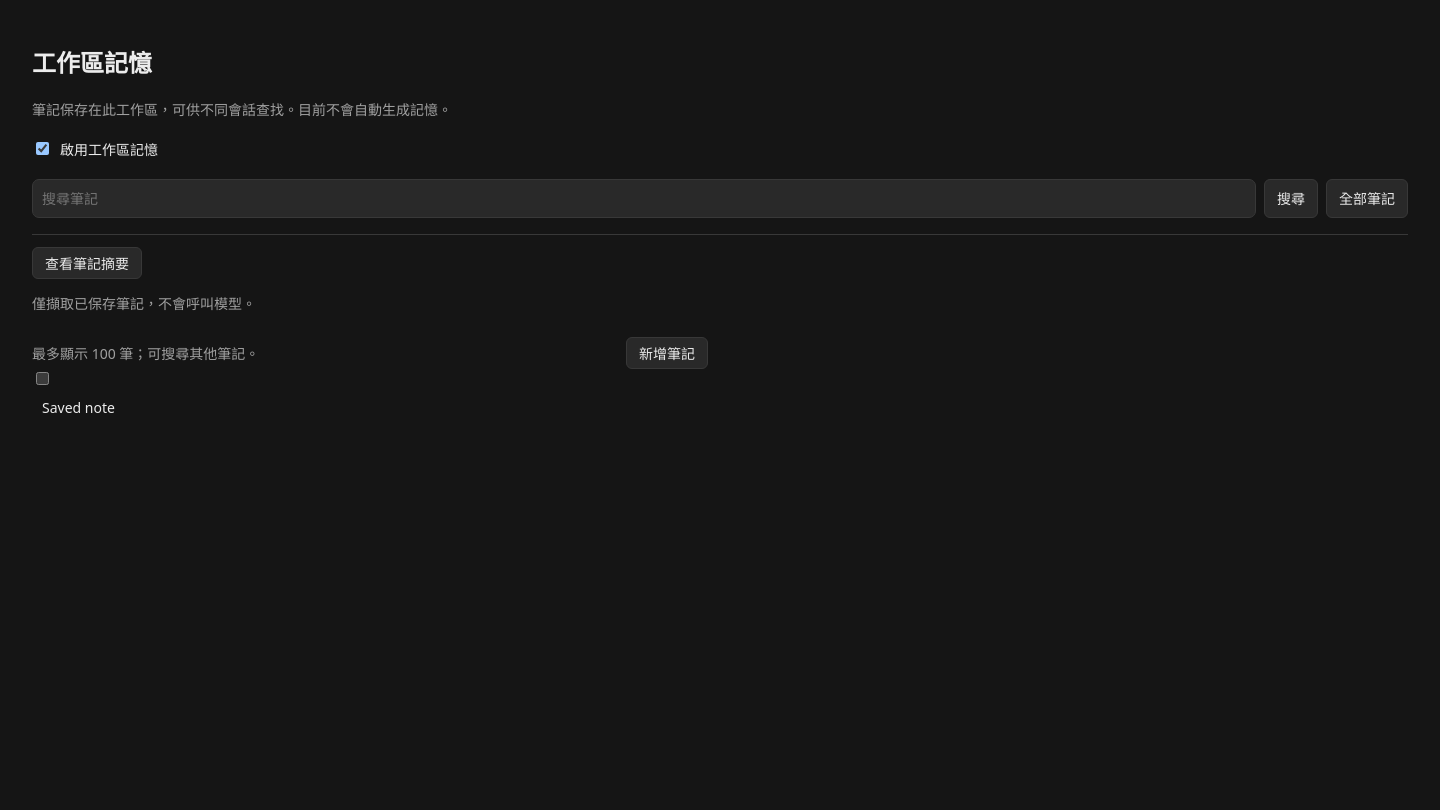
workspace memory › preserves a changed note when single deletion no longer matches its read revision
Click the button "Saved note". click: [78, 407]
box: x1=32 y1=389 x2=708 y2=426
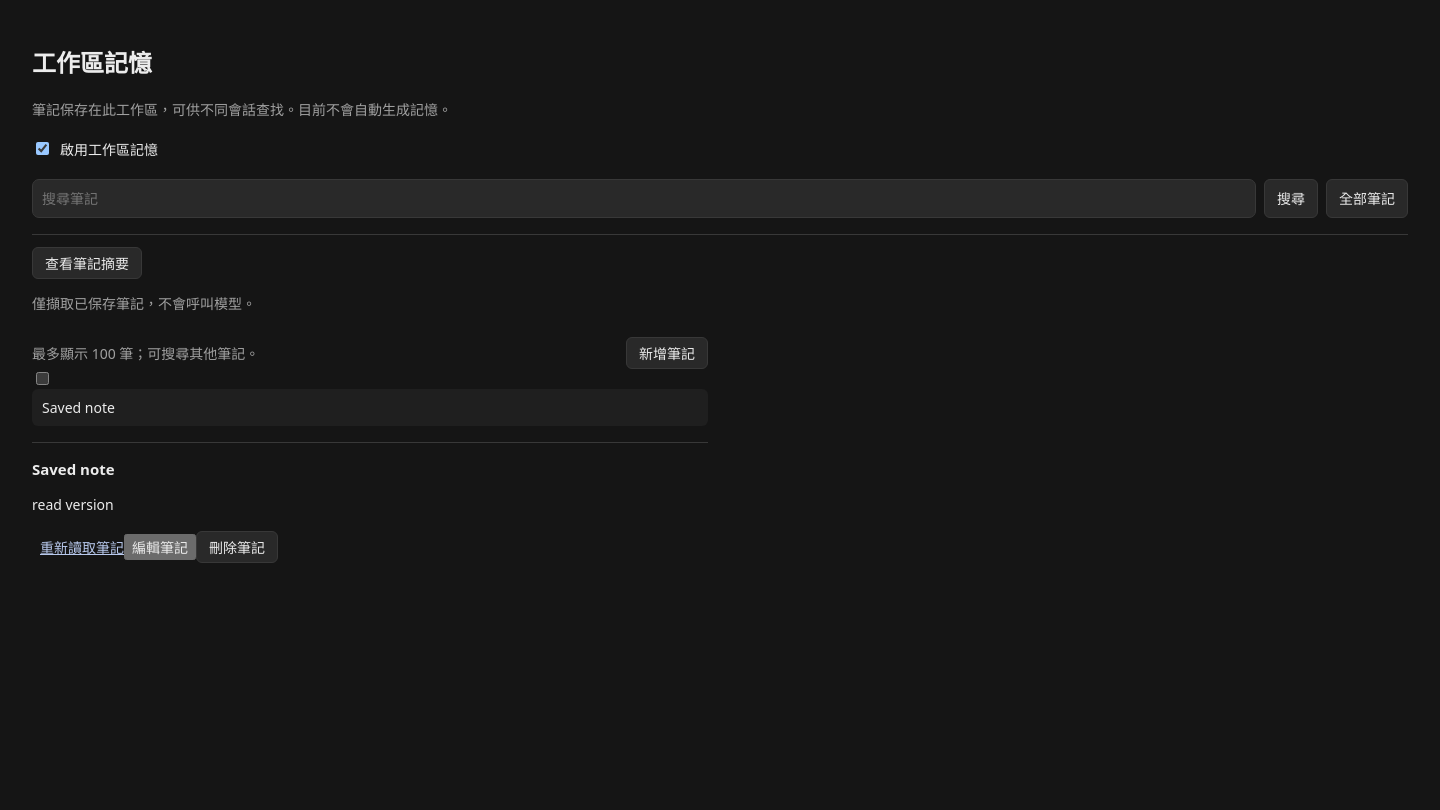
Click the button "刪除筆記". click: [237, 547]
box: x1=196 y1=531 x2=278 y2=563
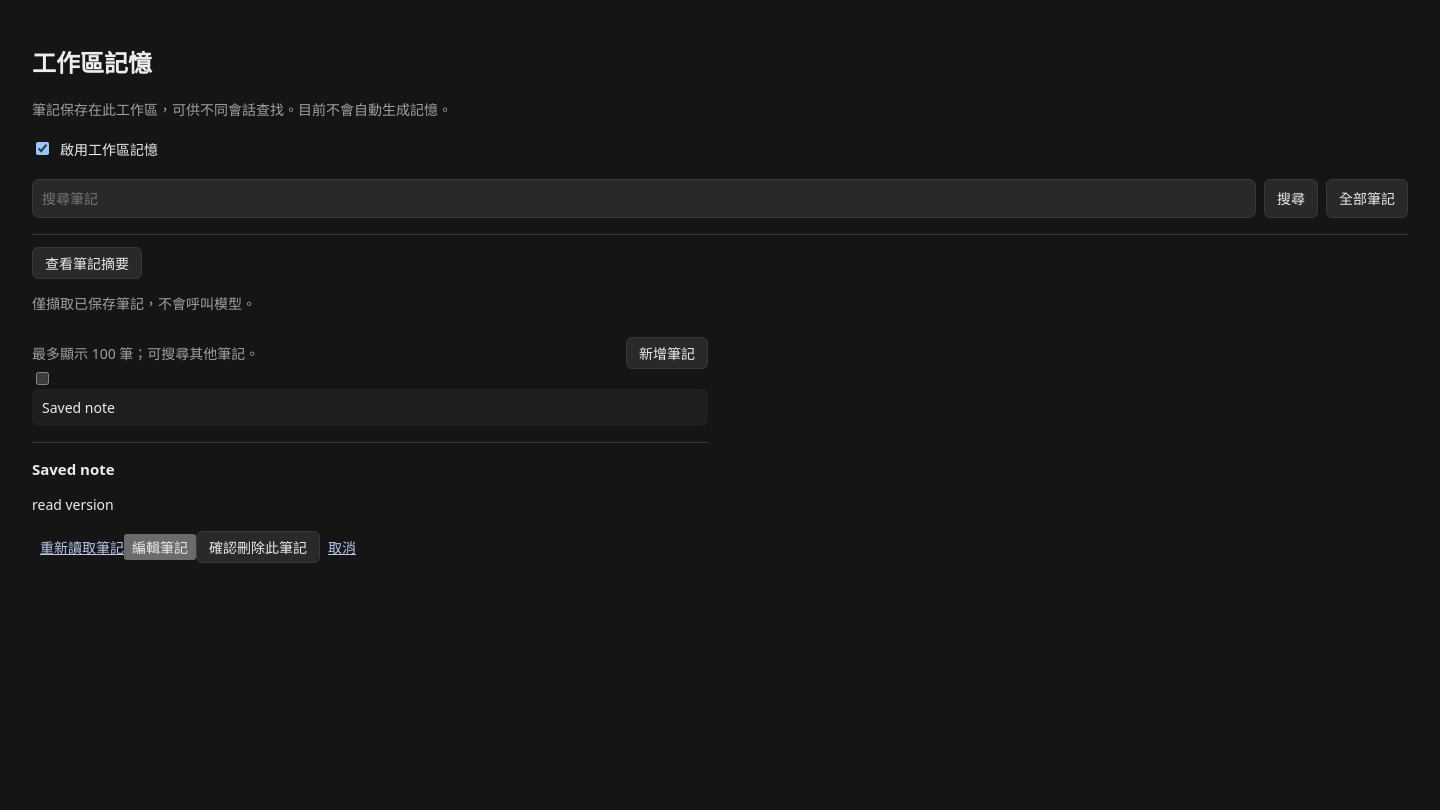
Click the button "確認刪除此筆記". click: [258, 547]
box: x1=196 y1=531 x2=320 y2=563
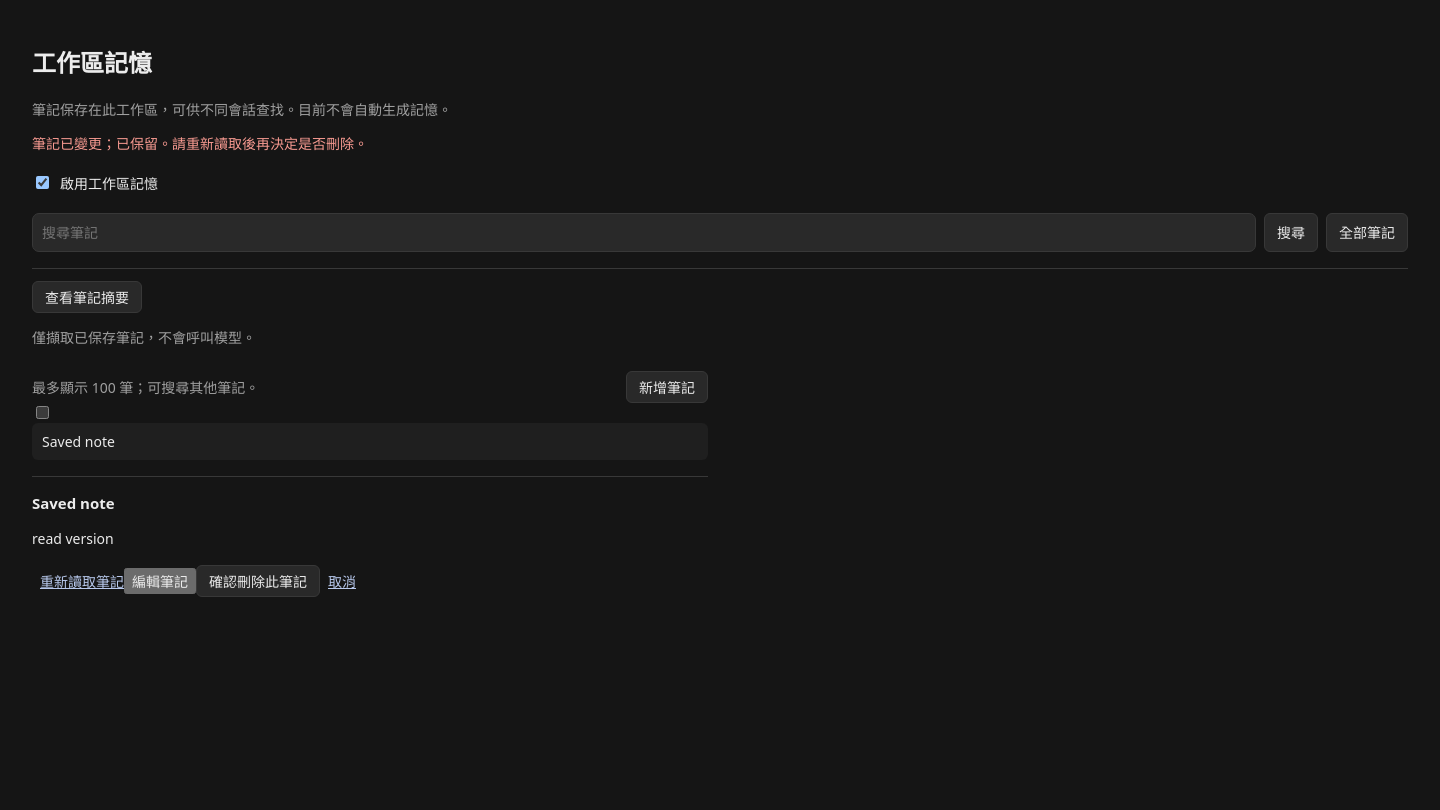
Expected: the text "read version" is shown, x1=32 y1=529 x2=114 y2=548
Expected: the button "重新讀取筆記" is shown, x1=40 y1=571 x2=124 y2=591
Expected: the message shows "筆記已變更", x1=32 y1=134 x2=368 y2=153
